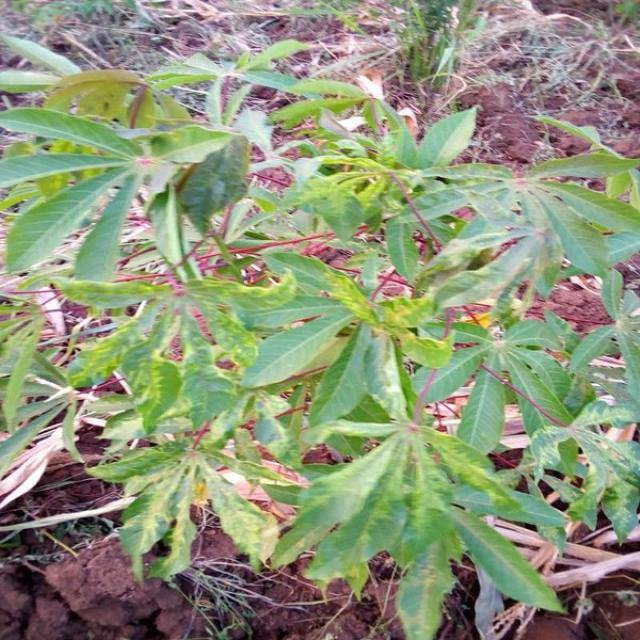cassava leaf: (2, 32, 640, 637)
